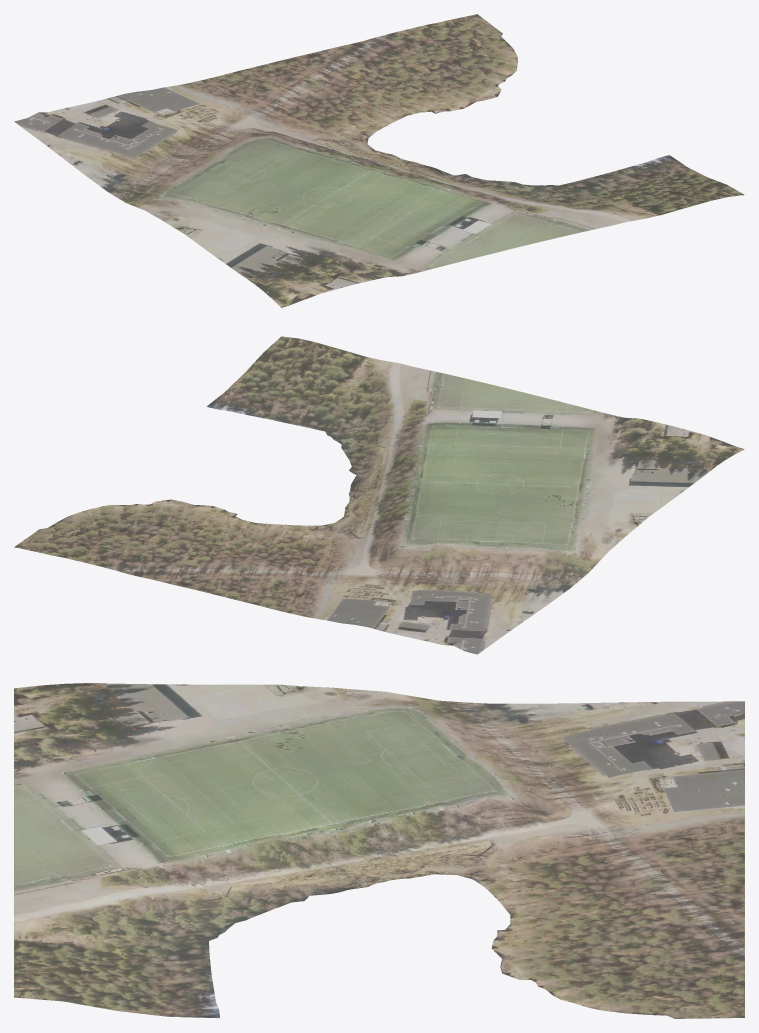
File: CM_Terrain_24491482_6815288.fbx
3 views of the same model, one above another, from view 1: azimuth 30°, elevation 25°; view 2: azimuth 150°, elevation 25°; view 3: azimuth 270°, elevation 25° (orthographic). The views are drawn at different scales.
Parts seen in each view (by area): view 1: CM_Terrain_24491482_6815288_LOD0; view 2: CM_Terrain_24491482_6815288_LOD0; view 3: CM_Terrain_24491482_6815288_LOD0.
Boxes of the visible parts, box(x1,y1,x2,y2) form: CM_Terrain_24491482_6815288_LOD0: box(14, 14, 744, 307); CM_Terrain_24491482_6815288_LOD0: box(14, 336, 744, 654); CM_Terrain_24491482_6815288_LOD0: box(14, 683, 744, 1018).
Size of what is drawn, in the model's own units: 205 by 9.17 by 205.
